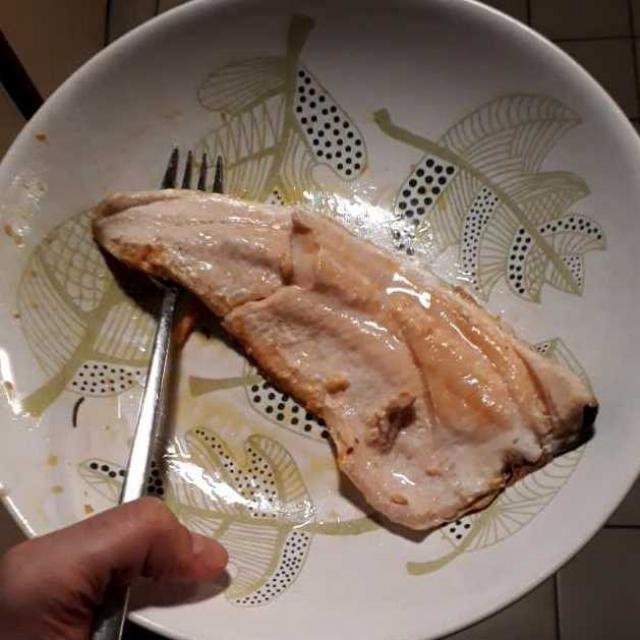fish: (103, 197, 589, 530)
